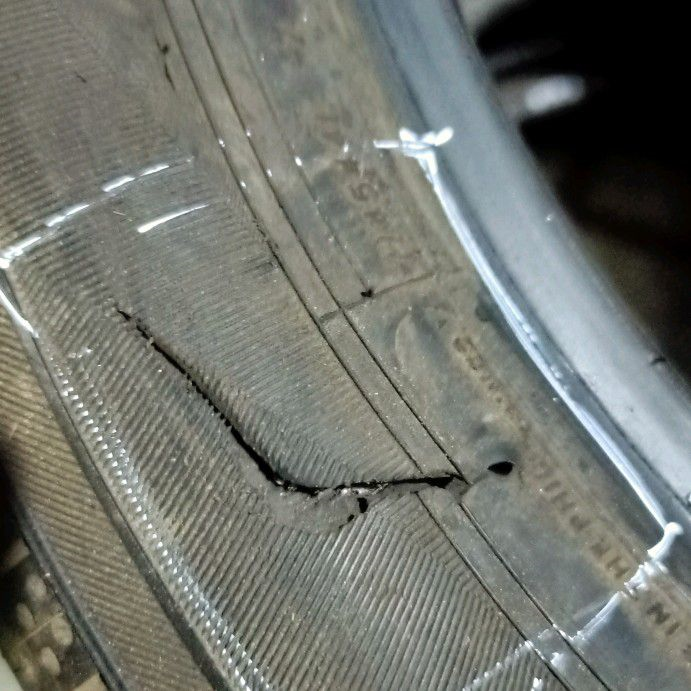cut: (109, 304, 521, 528)
